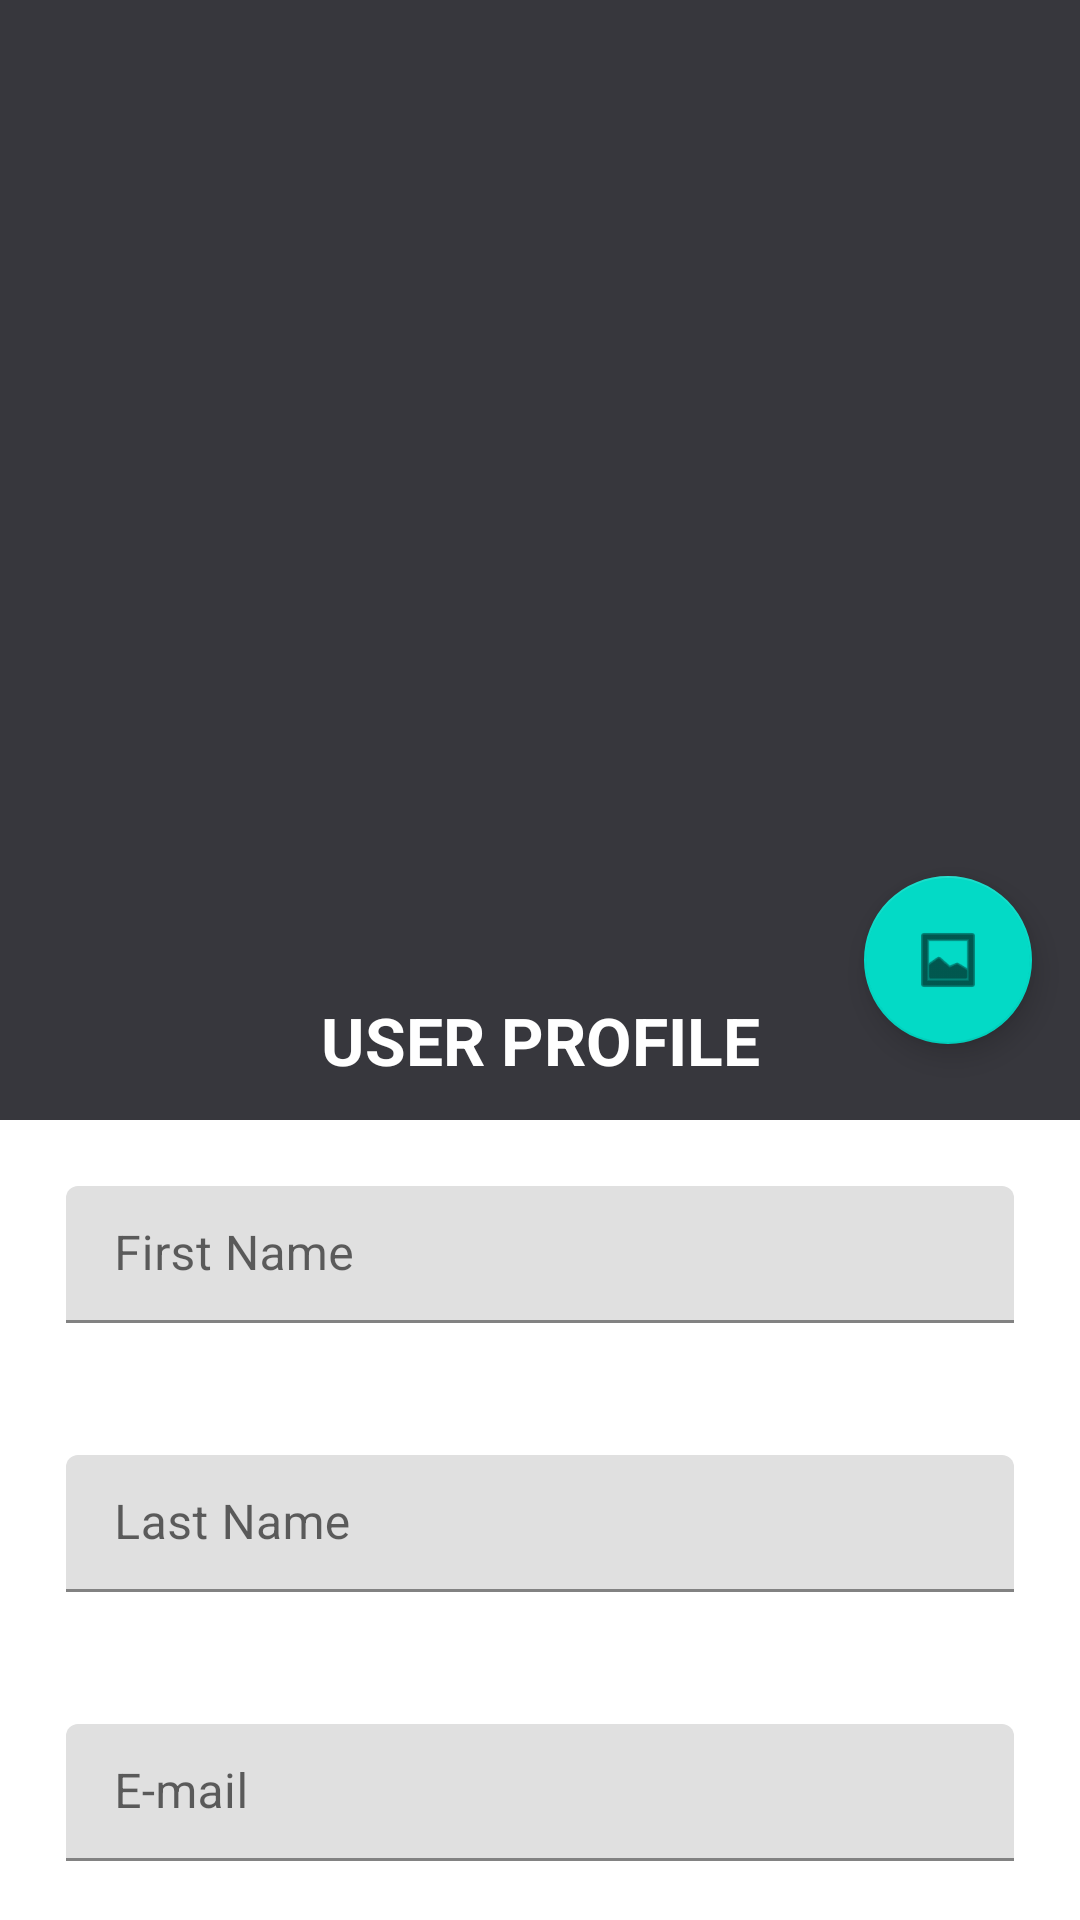

Locate icon controls on the screen. Image size 1080x1920, boxes as (x1, y1, x2, y2).
gallery: (864, 876, 1032, 1044)
